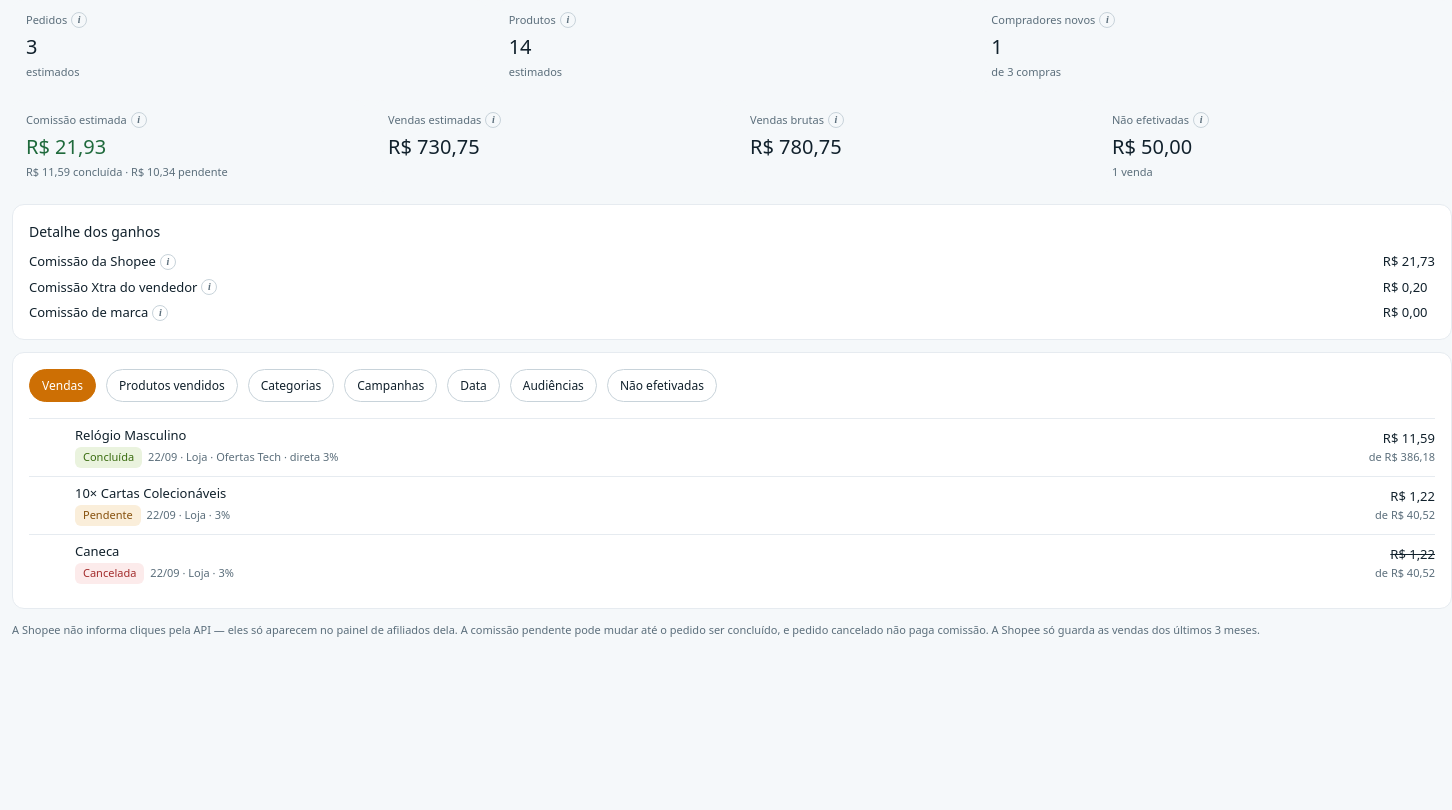
Test: DesempenhoShopee — abas › produtos vendidos: unidades, vendas e taxa de cada produto, com a comissão
What coordinates should you click on to do the following:
click the button "Produtos vendidos"
I would click on:
 (172, 385)
Its box is [106,368,238,402].
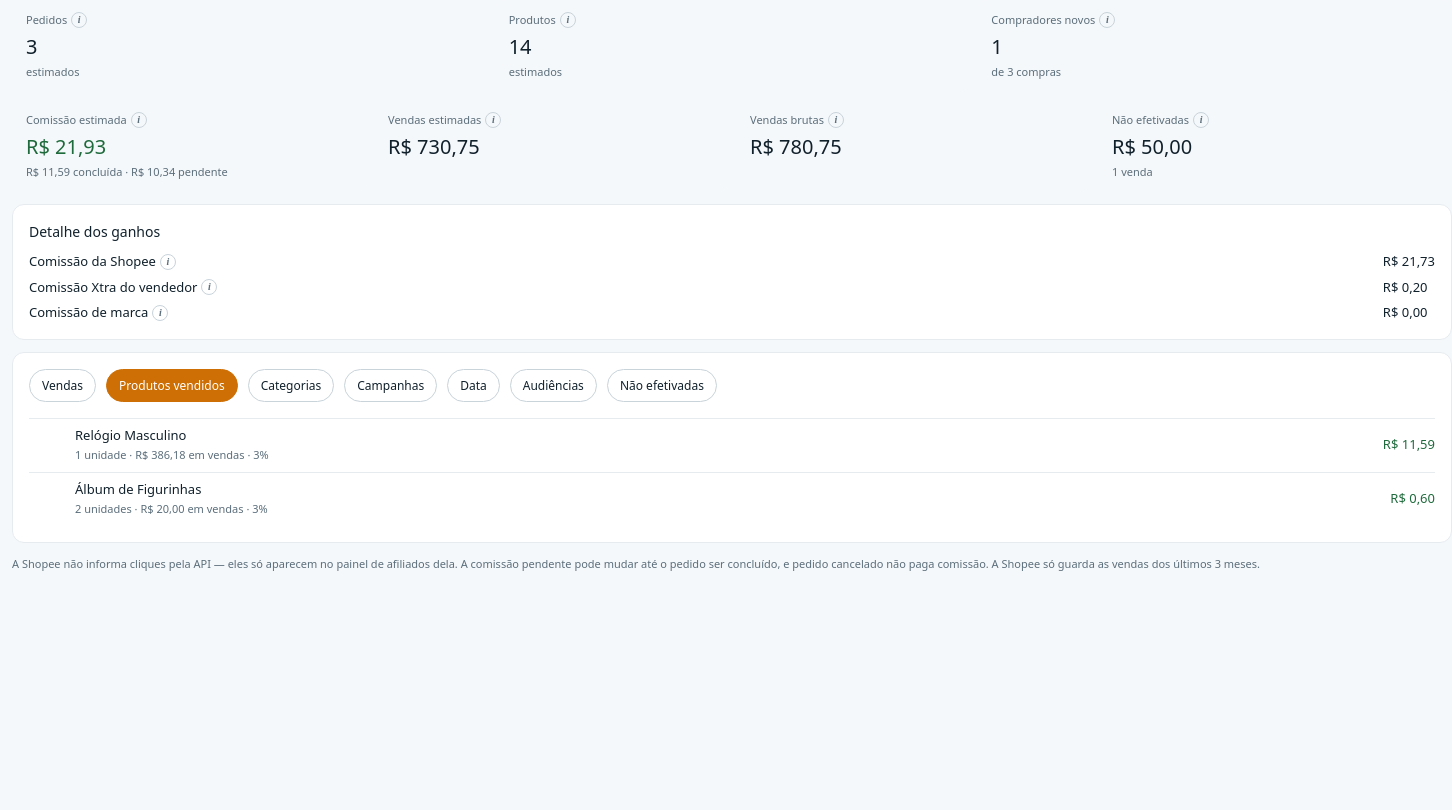
Expected: the link "Relógio Masculino" is shown, [75,426,186,444]
Expected: the text "1 unidade · R$ 386,18 em vendas · 3%" is shown, [75,447,269,464]
Expected: the text "2 unidades · R$ 20,00 em vendas · 3%" is shown, [75,501,268,518]
